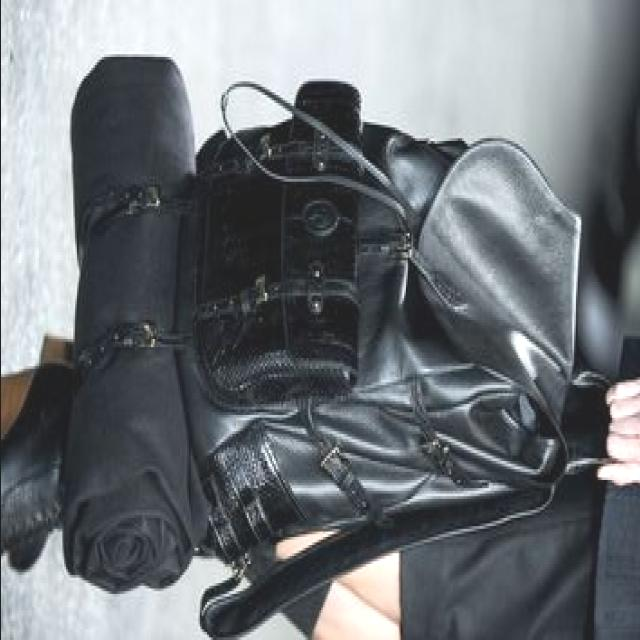backpack: (171, 66, 599, 614)
